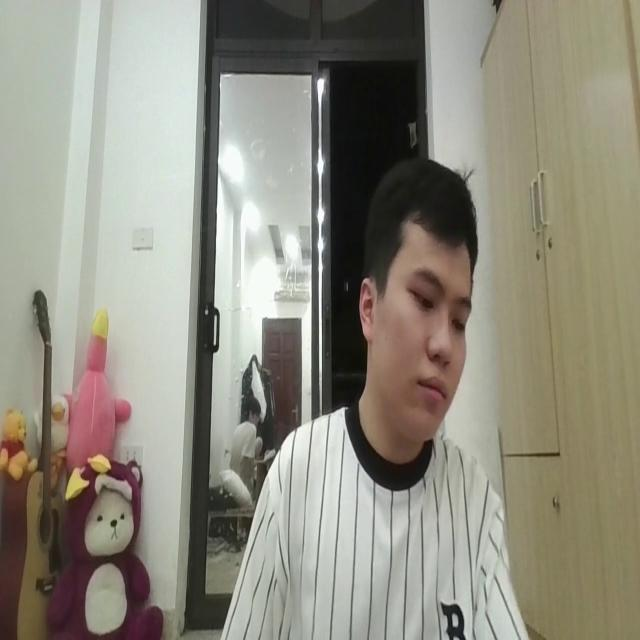student: (230, 154, 524, 640)
